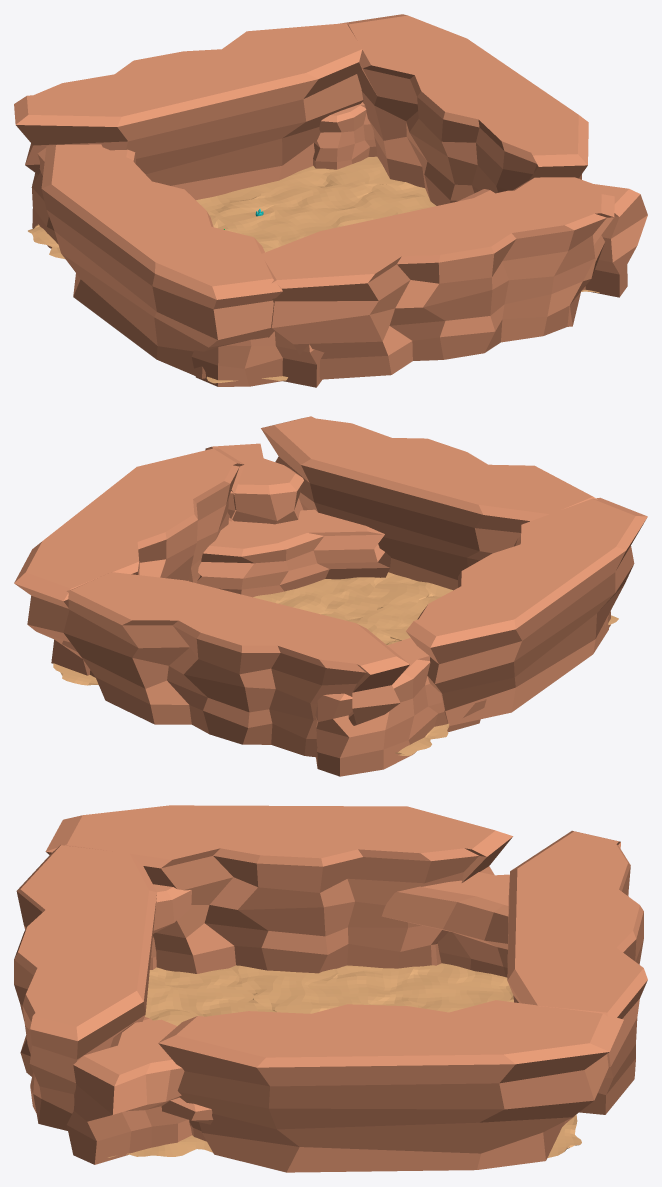
File: main_package.fbx
3 views of the same model, one above another, from view 1: azimuth 30°, elevation 25°; view 2: azimuth 150°, elevation 25°; view 3: azimuth 270°, elevation 25° (orthographic). The views are drawn at different scales.
Visible parts, largest first — view 1: Plane.004, Rocks, Plane.002, Plane.007, Desert_floor, Plane.005, Plane.003, Plane.008, Plane.001; view 2: Rocks, Plane.002, Plane.004, Plane.007, Plane.006, Plane.001, Desert_floor, Plane.003; view 3: Plane.007, Plane.002, Plane.004, Rocks, Desert_floor, Plane.003, Plane.001, Plane.005, Plane.006.
Boxes of the visible parts, left/top/right/bottom form: Plane.004: left=261, top=190, right=614, bottom=379; Rocks: left=14, top=23, right=363, bottom=199; Plane.002: left=41, top=144, right=282, bottom=378; Plane.007: left=340, top=14, right=588, bottom=205; Desert_floor: left=28, top=156, right=599, bottom=383; Plane.005: left=191, top=331, right=324, bottom=387; Plane.003: left=513, top=177, right=647, bottom=297; Plane.008: left=313, top=102, right=377, bottom=169; Plane.001: left=31, top=148, right=135, bottom=248; Rocks: left=63, top=572, right=409, bottom=757; Plane.002: left=406, top=497, right=647, bottom=725; Plane.004: left=261, top=416, right=597, bottom=590; Plane.007: left=14, top=448, right=244, bottom=675; Plane.006: left=197, top=509, right=390, bottom=597; Plane.001: left=315, top=637, right=486, bottom=776; Desert_floor: left=53, top=572, right=618, bottom=755; Plane.003: left=205, top=443, right=303, bottom=524; Plane.007: left=158, top=1000, right=623, bottom=1172; Plane.002: left=45, top=805, right=512, bottom=973; Plane.004: left=14, top=844, right=156, bottom=1130; Rocks: left=507, top=830, right=647, bottom=1114; Desert_floor: left=108, top=963, right=581, bottom=1157; Plane.003: left=67, top=1019, right=191, bottom=1164; Plane.001: left=381, top=872, right=628, bottom=977; Plane.005: left=150, top=884, right=191, bottom=969; Plane.006: left=143, top=1017, right=213, bottom=1141.
Bounding box in the file's own units: 10800 × 2566 × 11050.
